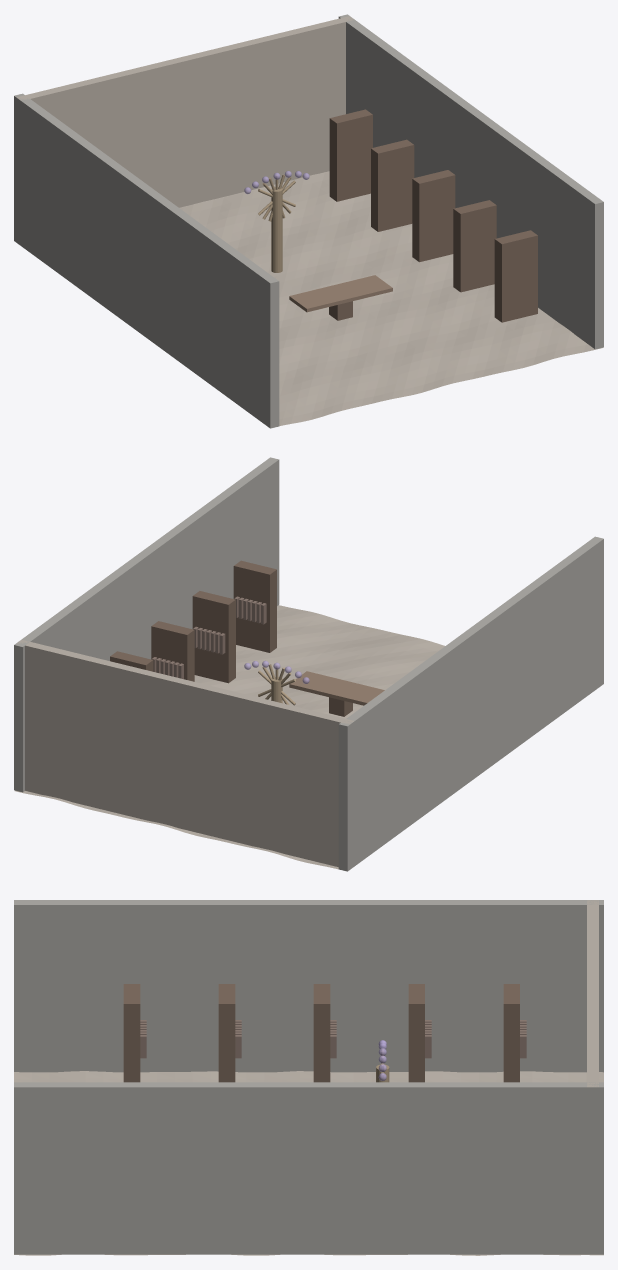
File: legacy-archive-real-v1.glb
3 views of the same model, one above another, from view 1: azimuth 30°, elevation 25°; view 2: azimuth 150°, elevation 25°; view 3: azimuth 270°, elevation 25° (orthographic). The views are drawn at different scales.
Parts seen in each view (by area): view 1: legacy-floor, legacy-left-wall, legacy-back-wall, legacy-right-wall, legacy-shelf-right-4, legacy-shelf-right-3, legacy-shelf-right-0, legacy-shelf-right-1, legacy-shelf-right-2, legacy-reading-table, legacy-lineage-trunk; view 2: legacy-back-wall, legacy-left-wall, legacy-right-wall, legacy-floor, legacy-shelf-right-3, legacy-shelf-right-4, legacy-shelf-right-2, legacy-reading-table; view 3: legacy-right-wall, legacy-left-wall, legacy-floor, legacy-back-wall, legacy-shelf-left-2, legacy-shelf-left-3, legacy-shelf-left-4, legacy-shelf-left-0, legacy-shelf-left-1.
Part boxes in pixels (box(x1,y1,x2,y2)): legacy-floor: box(179, 171, 603, 425); legacy-left-wall: box(14, 93, 279, 428); legacy-back-wall: box(17, 16, 354, 207); legacy-right-wall: box(338, 14, 603, 349); legacy-shelf-right-4: box(494, 230, 537, 322); legacy-shelf-right-3: box(453, 200, 496, 292); legacy-shelf-right-0: box(329, 109, 372, 201); legacy-shelf-right-1: box(371, 139, 414, 231); legacy-shelf-right-2: box(412, 170, 455, 262); legacy-reading-table: box(289, 275, 392, 312); legacy-lineage-trunk: box(271, 187, 282, 272); legacy-back-wall: box(17, 639, 353, 866); legacy-left-wall: box(338, 536, 603, 871); legacy-right-wall: box(14, 457, 279, 792); legacy-floor: box(15, 605, 444, 869); legacy-shelf-right-3: box(192, 591, 235, 683); legacy-shelf-right-4: box(233, 560, 276, 652); legacy-shelf-right-2: box(151, 621, 194, 681); legacy-reading-table: box(289, 671, 384, 705); legacy-right-wall: box(14, 1082, 603, 1254); legacy-left-wall: box(14, 900, 603, 1072); legacy-floor: box(14, 1071, 603, 1255); legacy-back-wall: box(587, 900, 598, 1087); legacy-shelf-left-2: box(313, 984, 330, 1082); legacy-shelf-left-3: box(218, 984, 235, 1082); legacy-shelf-left-4: box(123, 984, 140, 1082); legacy-shelf-left-0: box(503, 984, 519, 1082); legacy-shelf-left-1: box(408, 984, 424, 1082).
Bounding box in the file's own units: 12.02 × 5.05 × 16.
